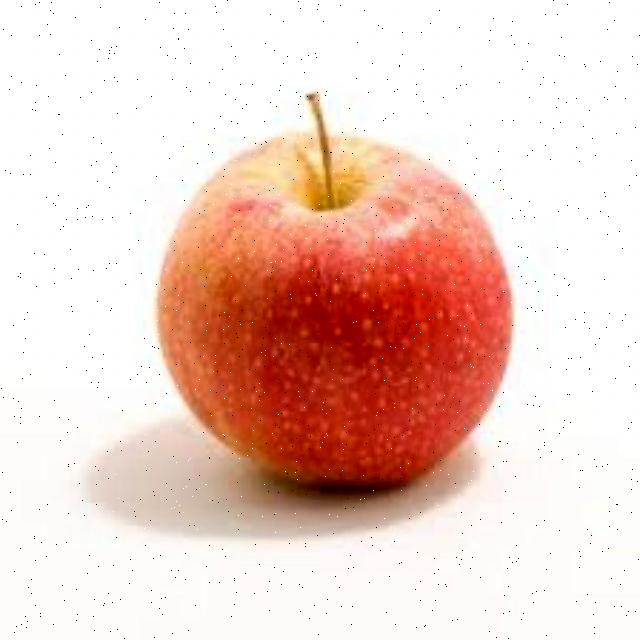HEALTHY: (146, 112, 534, 502)
